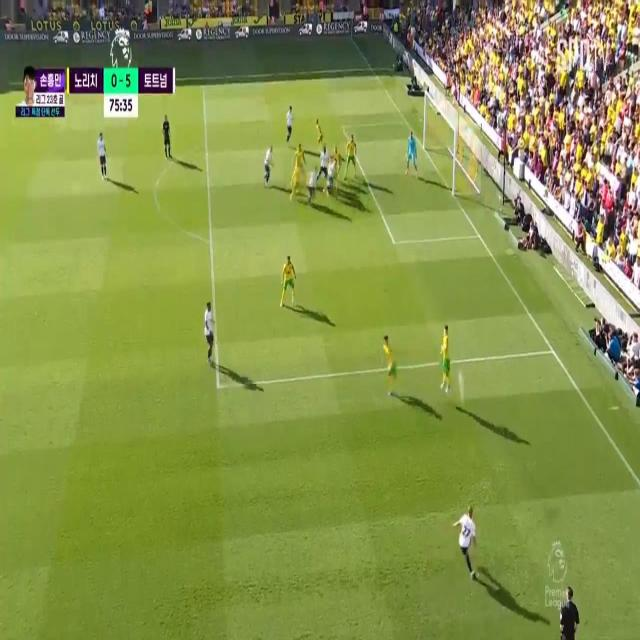ball: (455, 370, 465, 389)
player: (436, 319, 454, 390), (457, 503, 475, 565), (202, 295, 216, 361), (291, 141, 305, 203), (378, 326, 393, 382), (282, 252, 294, 311), (322, 152, 338, 189), (345, 133, 355, 192), (307, 162, 319, 202), (285, 108, 295, 152), (262, 146, 274, 182), (319, 145, 330, 183), (316, 116, 324, 160), (97, 136, 105, 180)
referee: (561, 584, 577, 640), (159, 109, 173, 163)
